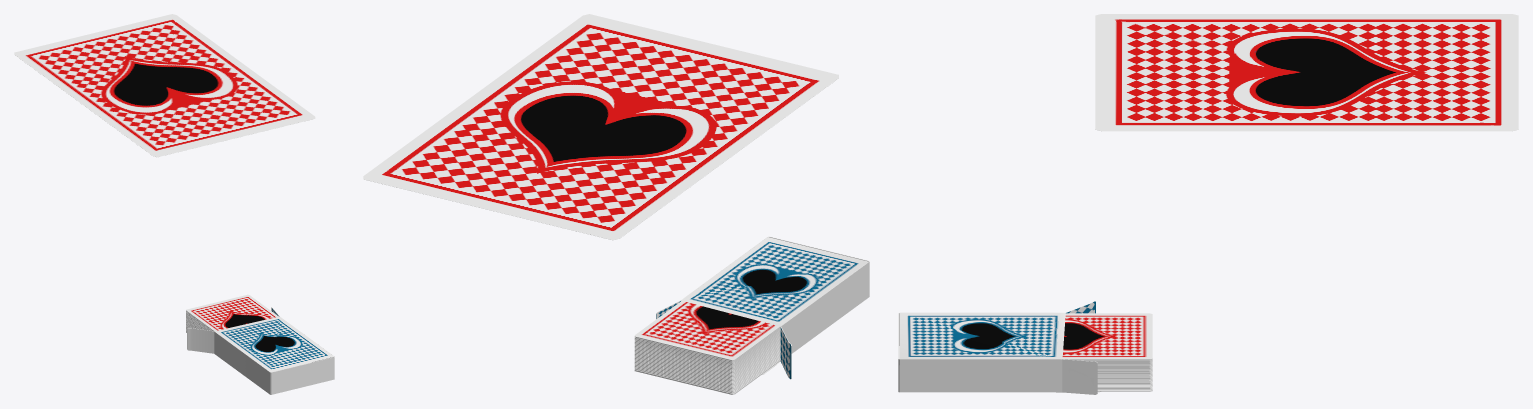
Rendered from BarajaV14.fbx.
3 renders of one model, left to right at view 1: azimuth 30°, elevation 25°; view 2: azimuth 150°, elevation 25°; view 3: azimuth 270°, elevation 25°, orthographic. The views are drawn at different scales.
Parts seen in each view (by area): view 1: Cubo.001, Cubo.003, Cubo.002; view 2: Cubo.001, Cubo.003, Cubo.002; view 3: Cubo.001, Cubo.003, Cubo.002.
Boxes of the visible parts, <box> form: Cubo.001: <box>14,14,315,157</box>; Cubo.003: <box>187,307,334,394</box>; Cubo.002: <box>186,294,278,332</box>; Cubo.001: <box>363,14,838,240</box>; Cubo.003: <box>656,236,869,379</box>; Cubo.002: <box>634,301,780,394</box>; Cubo.001: <box>1095,14,1518,131</box>; Cubo.003: <box>898,301,1100,394</box>; Cubo.002: <box>1062,313,1152,391</box>.
Size of the model in its own units: 60 by 70.83 by 134.
Materials: 4 (4 with a texture image).
